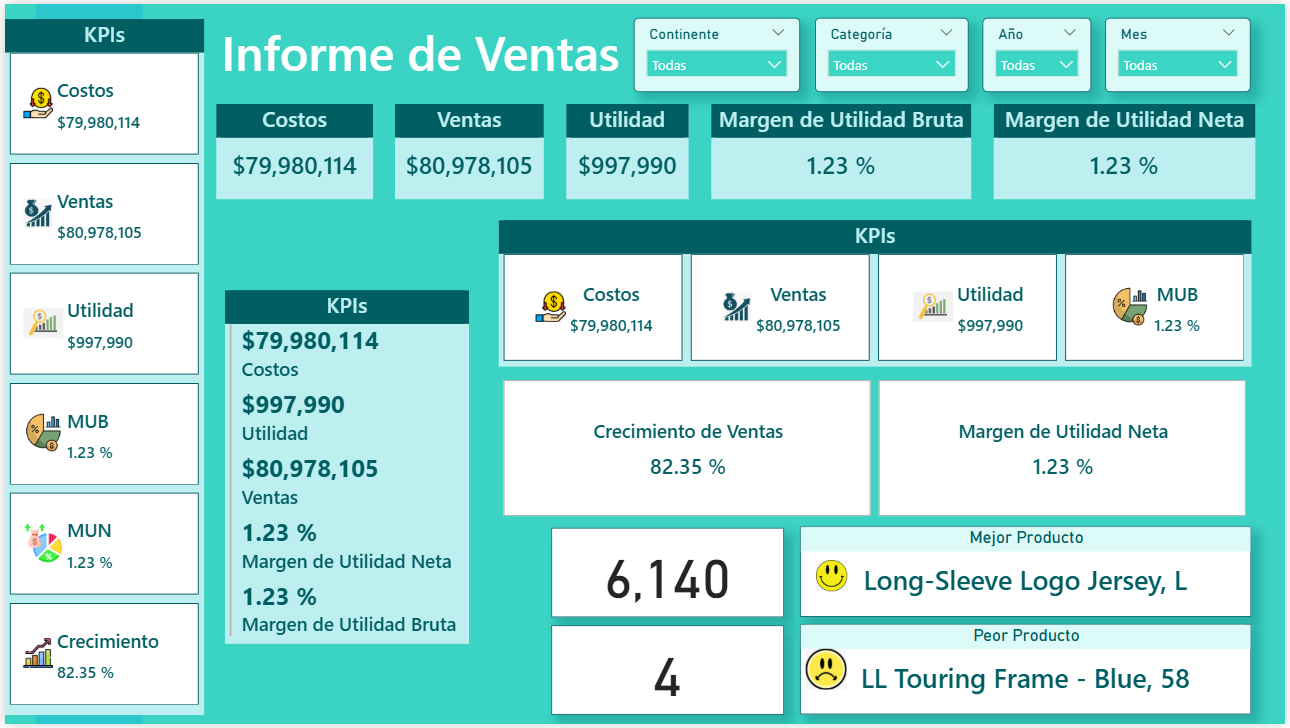

The dashboard page shown, as its layout file describes it:
{"tool":"powerbi","page":{"name":"Ventas","canvas":[1280,720],"ordinal":1},"visuals":[{"type":"textbox","title":"Informe de Ventas","box":[210.6,14.8,485.3,72.7],"z":0},{"type":"slicer","fields":{"Values":["DimSalesTerritory.SalesTerritoryGroup"]},"box":[628.8,14.3,166.3,74.1],"z":1000},{"type":"slicer","fields":{"Values":["DimProductCategory.SpanishProductCategoryName"]},"box":[809.4,14.3,153.3,74.1],"z":2000},{"type":"slicer","fields":{"Values":["DimCalendario.Año"]},"box":[977,14.3,109.1,74.1],"z":3000},{"type":"slicer","fields":{"Values":["DimCalendario.Mes"]},"box":[1100.5,14.3,145.5,74.1],"z":4000},{"type":"card","title":"Costos","fields":{"Values":["Medidas.Costos"]},"box":[211.1,99.6,156.7,95.6],"z":5000},{"type":"card","title":"Ventas","fields":{"Values":["Medidas.Ventas"]},"box":[390.3,99.6,148.7,95.6],"z":6000},{"type":"card","title":"Utilidad","fields":{"Values":["Medidas.Utilidades"]},"box":[561.6,99.6,122.1,95.6],"z":7000},{"type":"card","title":"Margen de Utilidad Bruta","fields":{"Values":["Medidas.Margen de Utilida Bruta"]},"box":[706.3,99.6,260.2,95.6],"z":8000},{"type":"card","title":"Margen de Utilidad Neta","fields":{"Values":["Medidas.Margen de Utilidad Neta"]},"box":[989,99.6,261.5,95.6],"z":9000},{"type":"multiRowCard","title":"KPIs","fields":{"Values":["Medidas.Costos","Medidas.Utilidad","Medidas.Ventas","Medidas.Margen de Utilidad Neta","Medidas.Margen de Utilida Bruta"]},"box":[220.5,285.8,243.9,353.5],"z":10000},{"type":"cardVisual","title":"KPIs","fields":{"Data":["Medidas.Costos","Medidas.Ventas","Medidas.Utilidad","Medidas.Margen de Utilida Bruta","Medidas.Margen de Utilidad Neta","Medidas.Crecimiento de Ventas"]},"box":[0,14.6,199.1,695.6],"z":11000},{"type":"cardVisual","title":"KPIs","fields":{"Data":["Medidas.Costos","Medidas.Ventas","Medidas.Utilidad","Medidas.Margen de Utilida Bruta"]},"box":[493.8,216.4,752.7,146],"z":12000},{"type":"cardVisual","title":"KPIs","fields":{"Data":["Medidas.Crecimiento de Ventas","Medidas.Margen de Utilidad Neta"]},"box":[493.8,371.7,752.7,146],"z":13000},{"type":"card","title":"Mejor Producto","fields":{"Values":["Min(DimProduct.EnglishProductName)"]},"box":[795.2,523.1,451.4,90.3],"z":14000},{"type":"card","title":"Peor Producto","fields":{"Values":["Min(DimProduct.EnglishProductName)"]},"box":[795.2,620,451.4,90.3],"z":15000},{"type":"image","box":[795.2,550.9,63.7,41.2],"z":16000},{"type":"image","box":[777.9,639.9,87.6,50.4],"z":17000},{"type":"card","title":"5 Mejores Productos","fields":{"Values":["Medidas.Cantidad"]},"box":[545.7,523.5,232.8,89.9],"z":18000},{"type":"card","title":"5 Mejores Productos","fields":{"Values":["Medidas.Cantidad"]},"box":[545.7,620.8,232.8,89.9],"z":19000}]}

Visuals, with their boxes in screenshot pixels (x1, y1, x2, y2), scaled from the page's 1280x720 canvas onto the 1290x728 screenshot:
"Informe de Ventas" textbox: [212,15,701,88]
slicer - DimSalesTerritory.SalesTerritoryGroup: [634,14,801,89]
slicer - DimProductCategory.SpanishProductCategoryName: [816,14,970,89]
slicer - DimCalendario.Año: [985,14,1095,89]
slicer - DimCalendario.Mes: [1109,14,1256,89]
"Costos" card: [213,101,371,197]
"Ventas" card: [393,101,543,197]
"Utilidad" card: [566,101,689,197]
"Margen de Utilidad Bruta" card: [712,101,974,197]
"Margen de Utilidad Neta" card: [997,101,1260,197]
"KPIs" multiRowCard: [222,289,468,646]
"KPIs" cardVisual: [0,15,201,718]
"KPIs" cardVisual: [498,219,1256,366]
"KPIs" cardVisual: [498,376,1256,523]
"Mejor Producto" card: [801,529,1256,620]
"Peor Producto" card: [801,627,1256,718]
image: [801,557,866,599]
image: [784,647,872,698]
"5 Mejores Productos" card: [550,529,785,620]
"5 Mejores Productos" card: [550,628,785,719]
